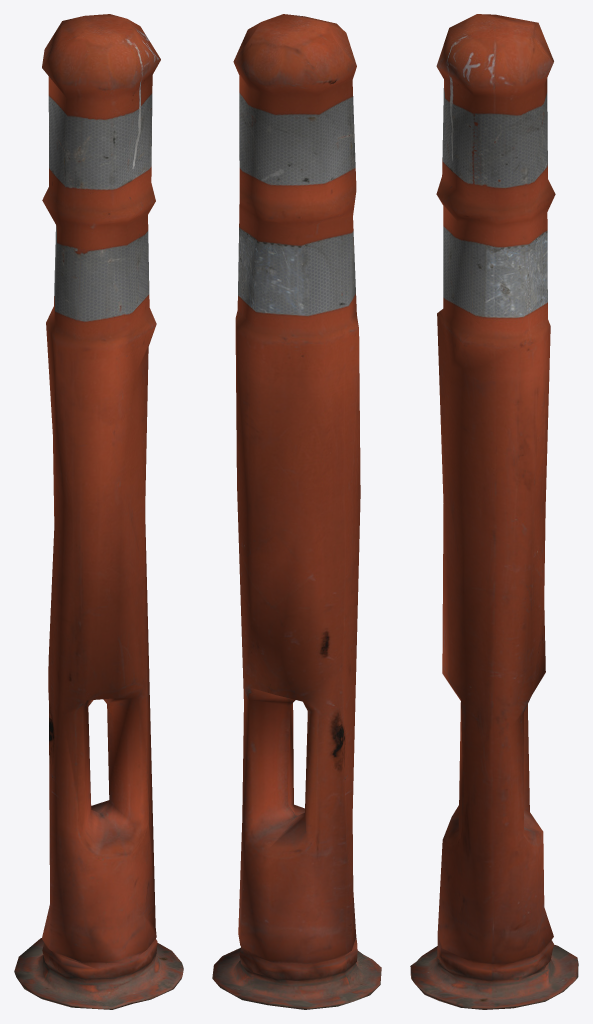
Rendered from vjxscee_tier_3.gltf.
The picture shows the model from 3 angles, left to right: view 1: azimuth 30°, elevation 25°; view 2: azimuth 150°, elevation 25°; view 3: azimuth 270°, elevation 25°; orthographic projection.
Parts seen in each view (by area): view 1: vjxscee_LOD0_TIER3_000; view 2: vjxscee_LOD0_TIER3_000; view 3: vjxscee_LOD0_TIER3_000.
Boxes of the visible parts, x1,y1,x2,y2 form: vjxscee_LOD0_TIER3_000: (14,14,183,1009); vjxscee_LOD0_TIER3_000: (212,14,381,1009); vjxscee_LOD0_TIER3_000: (410,14,578,1009).
Bounding box in the file's own units: 0.1636 × 1.01 × 0.1609.
Materials: 1 (1 with a texture image).
